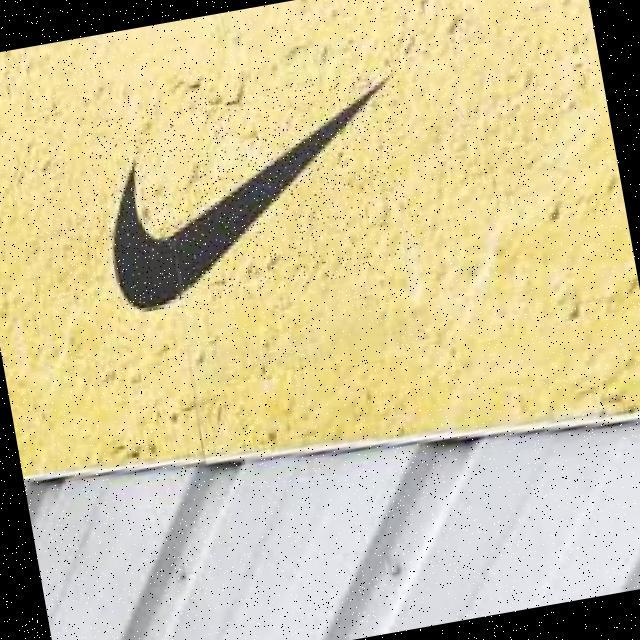Nike: (80, 63, 428, 317)
